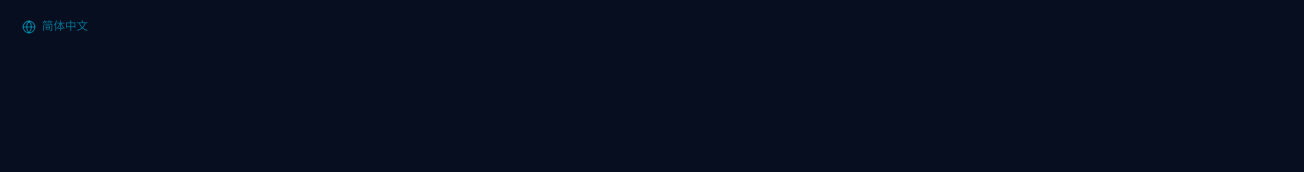
LanguageSwitcher › should open dropdown when clicked
The image size is (1304, 172).
Click the button with test id "lang-trigger" at (55, 27), box [12, 12, 98, 41]
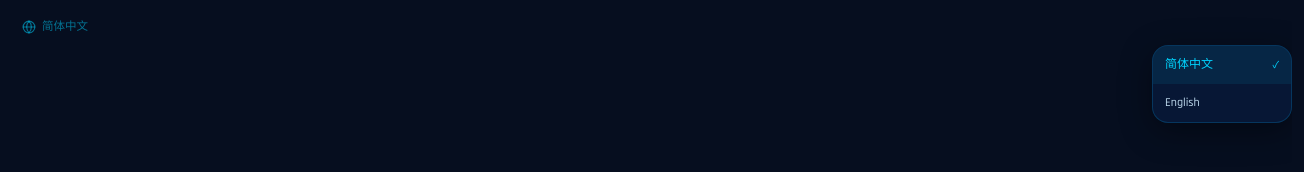
Now the element with test id "lang-dropdown" is shown, box [1152, 45, 1292, 123]
